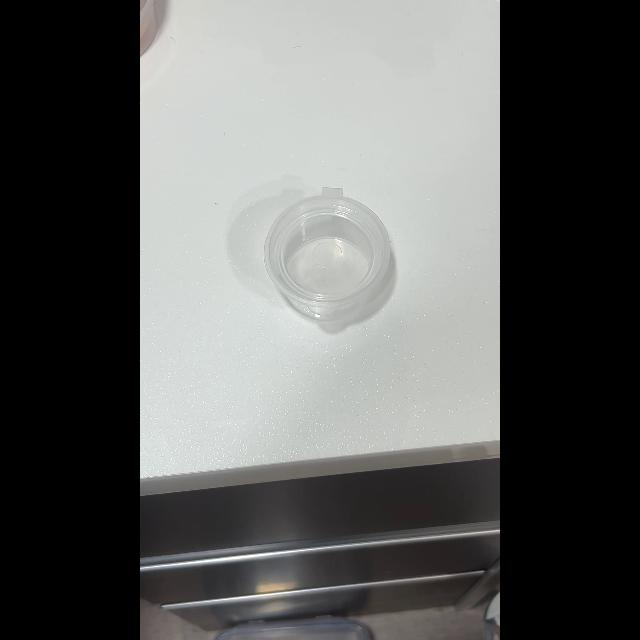clean: (263, 189, 392, 321)
